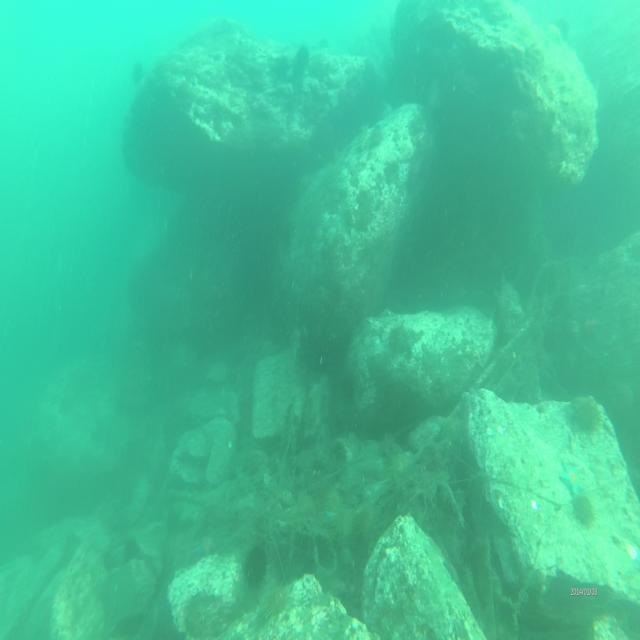echinus: (241, 540, 271, 587), (573, 396, 603, 432), (573, 492, 599, 531), (388, 323, 413, 350), (129, 59, 146, 82), (296, 42, 308, 68)
holothurian: (359, 120, 372, 153)
starfish: (560, 458, 584, 493), (582, 312, 602, 340)
